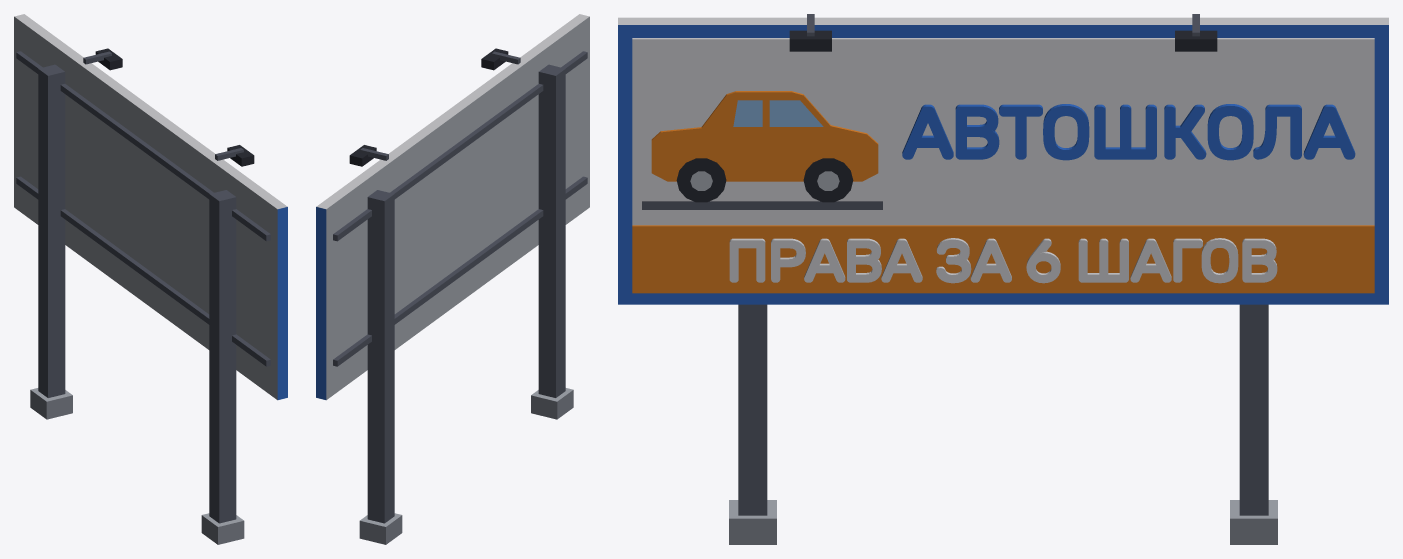
File: billboard_school.glb
3 views of the same model, side by side, from view 1: azimuth 30°, elevation 25°; view 2: azimuth 150°, elevation 25°; view 3: azimuth 270°, elevation 25° (orthographic). The views are drawn at different scales.
Visible parts, largest first — view 1: Billboard; view 2: Billboard; view 3: Billboard.
Part boxes in pixels (x1,y1,x2,y2): Billboard: (14, 14, 287, 544); Billboard: (316, 14, 589, 544); Billboard: (618, 14, 1388, 544).
Size of the model in its own units: 1 by 6.08 by 8.
